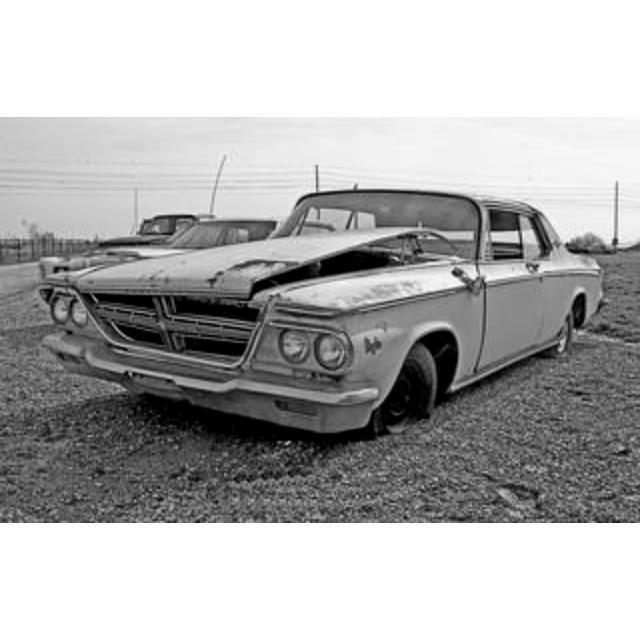bonnet-dent: (106, 207, 420, 277)
front-bumper-dent: (74, 287, 318, 403)
